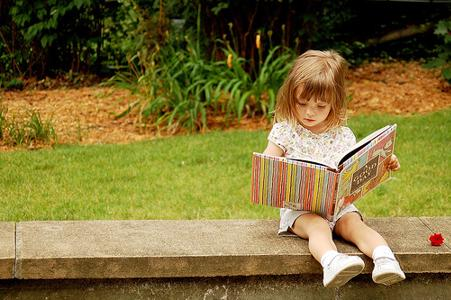person: (250, 50, 407, 289)
